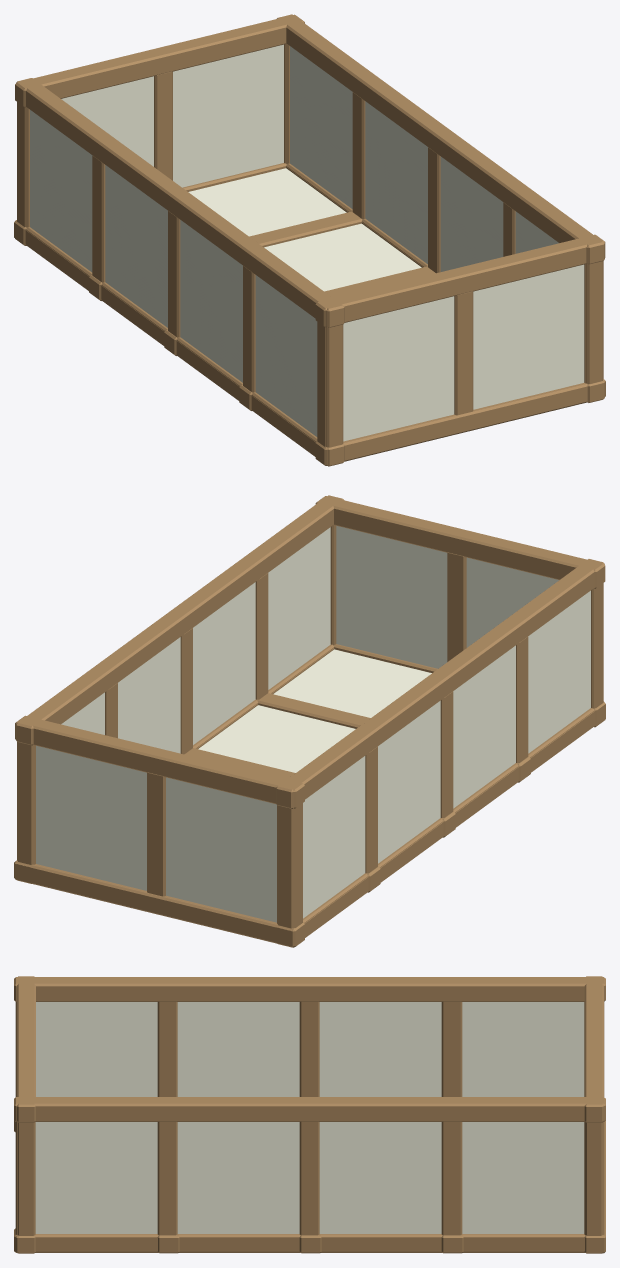
File: HouseBase.fbx
The picture shows the model from 3 angles, top to bottom: view 1: azimuth 30°, elevation 25°; view 2: azimuth 150°, elevation 25°; view 3: azimuth 270°, elevation 25°; orthographic projection. The views are drawn at different scales.
Parts seen in each view (by area): view 1: BaseWall.027, BaseWall.026, BaseWall.028, BaseWall.024, BaseWall.023, BaseWall.030, BaseWall.022, BaseWall.021, BaseWall.029, BaseWall.025, BaseWall.031, BaseWall.033 (+7 smaller); view 2: BaseWall.025, BaseWall.026, BaseWall.028, BaseWall.021, BaseWall.031, BaseWall.022, BaseWall.023, BaseWall.024, BaseWall.027, BaseWall.032, BaseWall.030, BaseWall.039 (+8 smaller); view 3: BaseWall.031, BaseWall.030, BaseWall.029, BaseWall.032, BaseWall.023, BaseWall.022, BaseWall.021, BaseWall.024, BaseWall.026, BaseWall.028, BaseWall.033, BaseWall.035 (+4 smaller).
Part boxes in pixels (bbox=[...]): BaseWall.027: bbox=[315, 266, 474, 465]; BaseWall.026: bbox=[154, 14, 304, 191]; BaseWall.028: bbox=[448, 234, 605, 414]; BaseWall.024: bbox=[243, 250, 344, 466]; BaseWall.023: bbox=[166, 194, 267, 400]; BaseWall.030: bbox=[351, 76, 452, 273]; BaseWall.022: bbox=[91, 140, 192, 345]; BaseWall.021: bbox=[16, 78, 116, 290]; BaseWall.029: bbox=[277, 14, 377, 217]; BaseWall.025: bbox=[15, 46, 173, 245]; BaseWall.031: bbox=[428, 132, 527, 272]; BaseWall.033: bbox=[188, 166, 362, 247]; BaseWall.025: bbox=[146, 747, 304, 947]; BaseWall.026: bbox=[15, 715, 165, 896]; BaseWall.028: bbox=[315, 496, 466, 672]; BaseWall.021: bbox=[276, 724, 378, 947]; BaseWall.031: bbox=[178, 550, 269, 753]; BaseWall.022: bbox=[363, 668, 454, 882]; BaseWall.023: bbox=[439, 614, 529, 827]; BaseWall.024: bbox=[514, 559, 604, 772]; BaseWall.027: bbox=[446, 527, 605, 727]; BaseWall.032: bbox=[254, 495, 343, 698]; BaseWall.030: bbox=[103, 605, 194, 754]; BaseWall.039: bbox=[257, 648, 431, 728]; BaseWall.031: bbox=[157, 1097, 319, 1252]; BaseWall.030: bbox=[299, 1097, 461, 1252]; BaseWall.029: bbox=[442, 1097, 605, 1252]; BaseWall.032: bbox=[14, 1097, 177, 1252]; BaseWall.023: bbox=[157, 977, 319, 1096]; BaseWall.022: bbox=[299, 977, 461, 1096]; BaseWall.021: bbox=[442, 977, 605, 1096]; BaseWall.024: bbox=[14, 977, 177, 1132]; BaseWall.026: bbox=[584, 1044, 603, 1253]; BaseWall.028: bbox=[16, 1044, 35, 1253]; BaseWall.033: bbox=[441, 1176, 605, 1253]; BaseWall.035: bbox=[299, 1235, 463, 1253].
Size of the model in its own units: 4.33 by 2.32 by 8.34.
